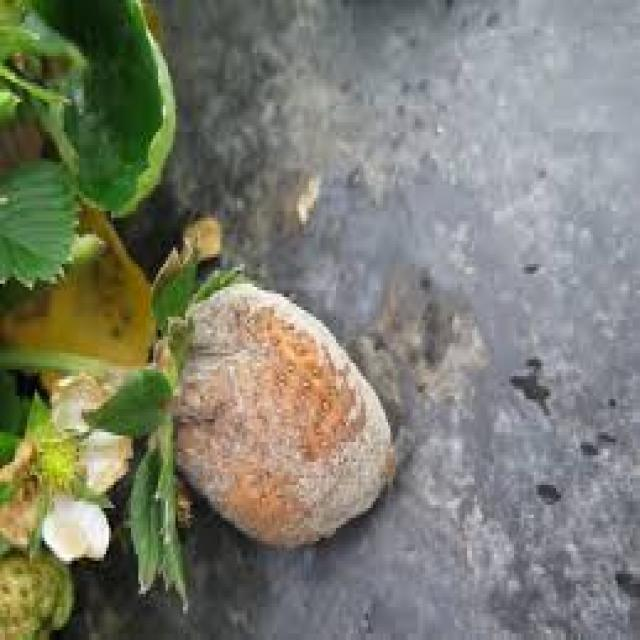Moho gris: (155, 250, 406, 559)
